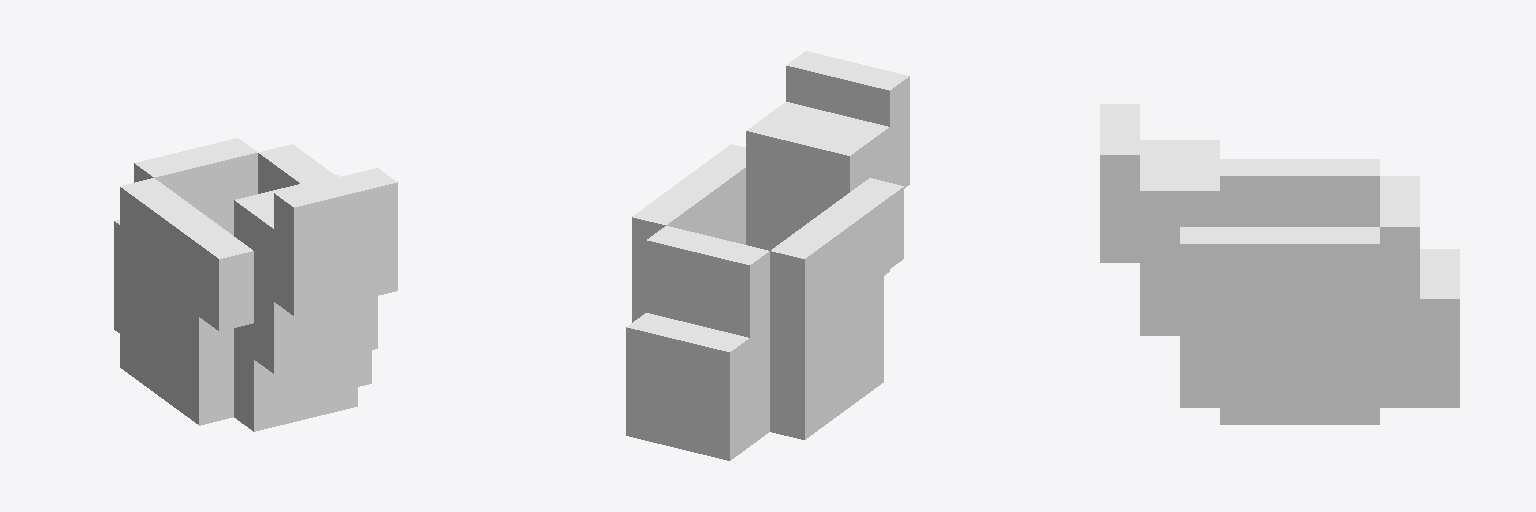
The model's file is bootLeft.obj.
The picture shows the model from 3 angles: view 1: azimuth 30°, elevation 25°; view 2: azimuth 150°, elevation 25°; view 3: azimuth 270°, elevation 25°; orthographic projection.
Parts seen in each view (by area): view 1: object 1; view 2: object 1; view 3: object 1.
Boxes of the visible parts, <box> form: object 1: <box>114,138,397,431</box>; object 1: <box>626,51,909,460</box>; object 1: <box>1100,104,1459,424</box>.
Size of the model in its own units: 0.5 by 0.7 by 0.9.